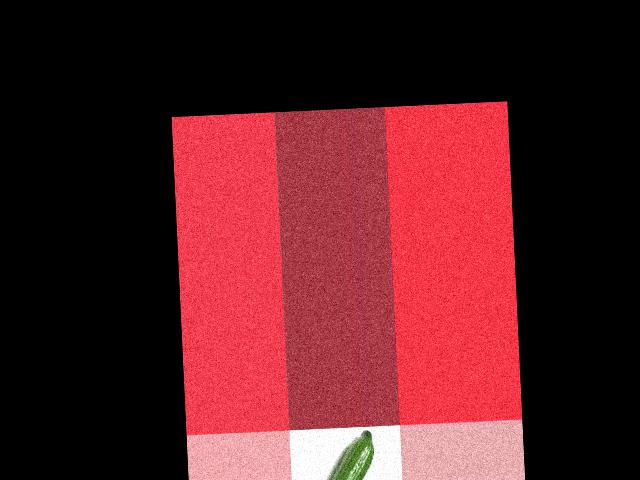cucumber: (314, 430, 376, 480)
